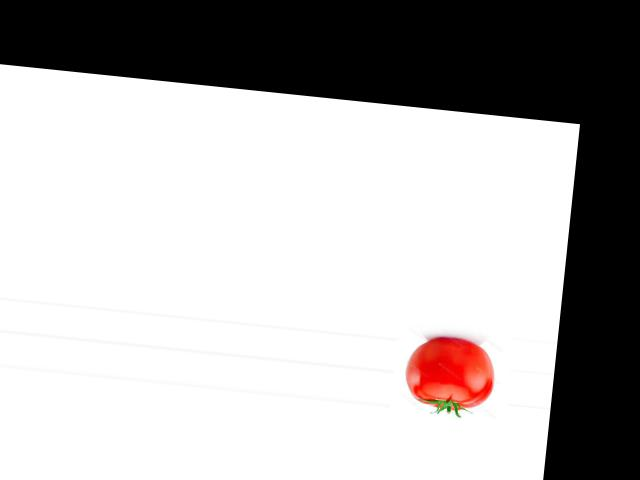tomato: (402, 335, 498, 413)
